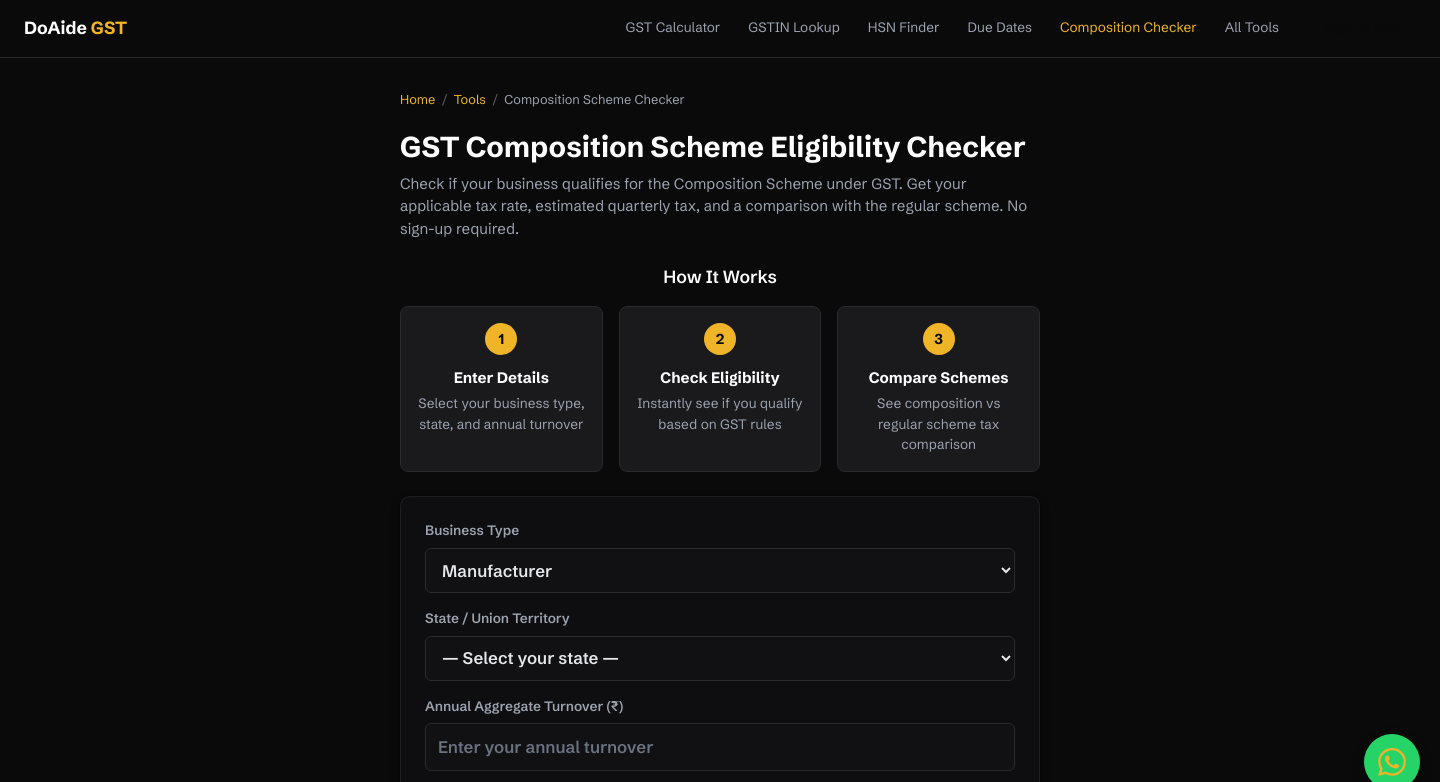
Test: CompositionSchemeCheckerPage › applies special category state limit for goods suppliers
Select "Sikkim" in the dropdown labelled "State / Union Territory": (720, 658) [425,636,1015,681]
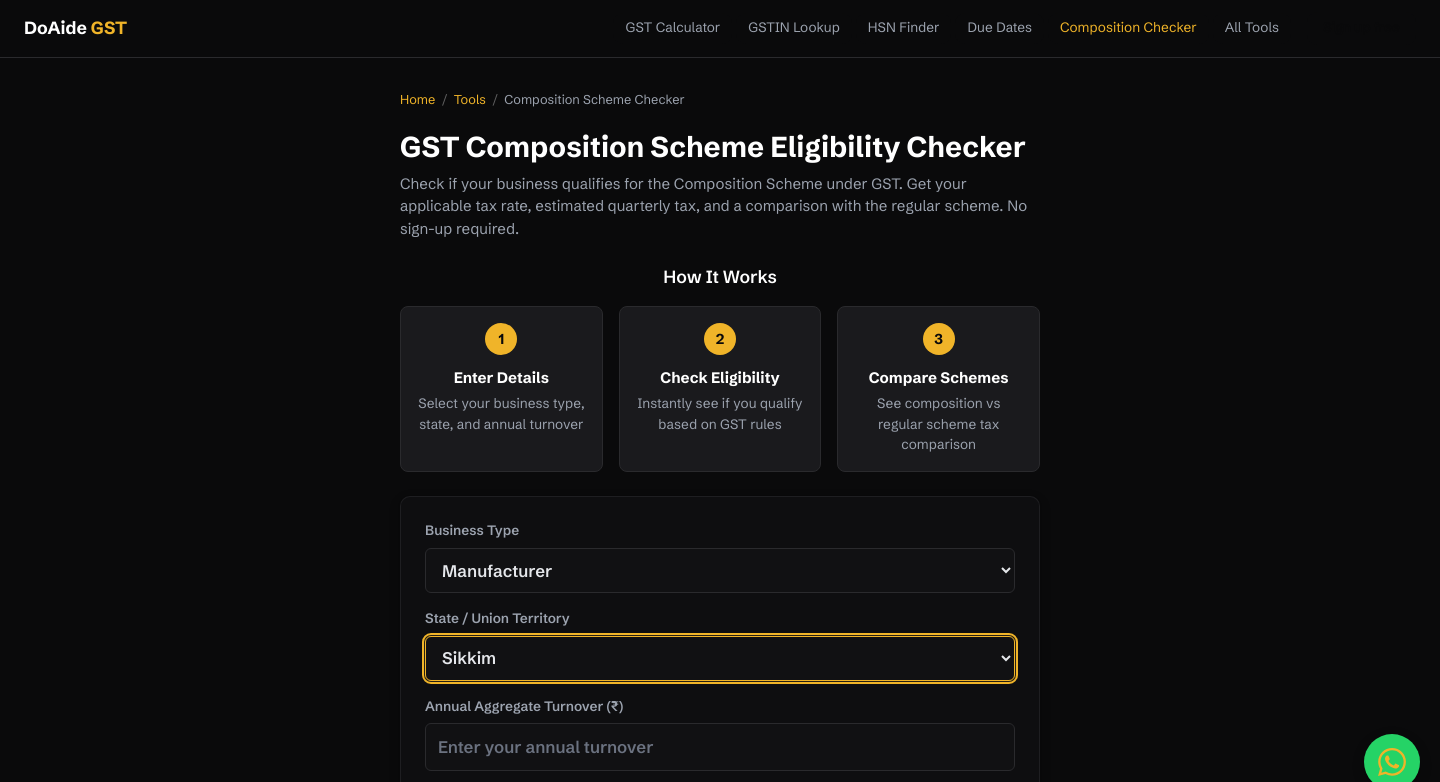
In the number field labelled "Annual Aggregate Turnover (₹)": (720, 747) [425,723,1015,771], type "8000000"
(page scrolled)
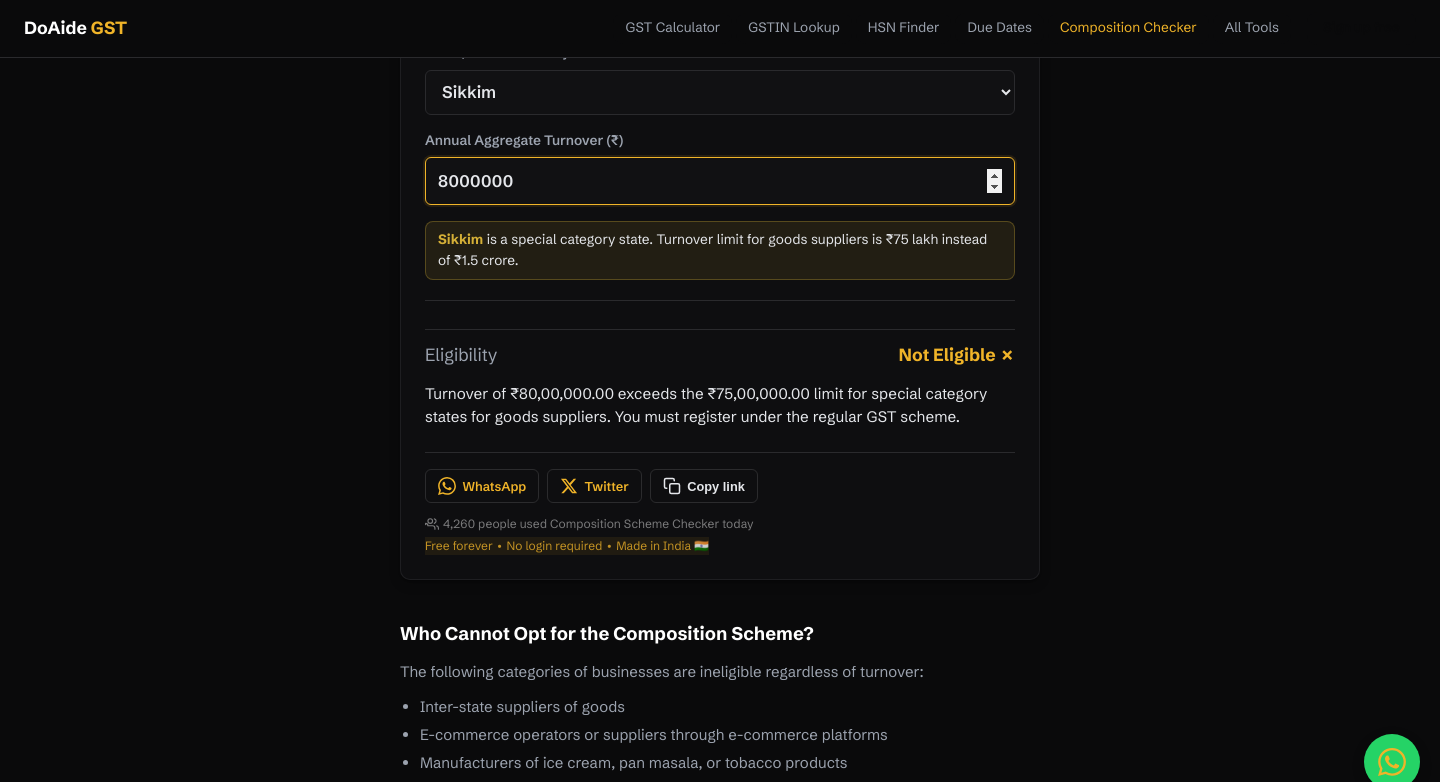
Check: the text "Not Eligible ✗" is shown, box [899,342,1015,368]
Check: the text "special category state" is shown, box [425,384,987,426]
